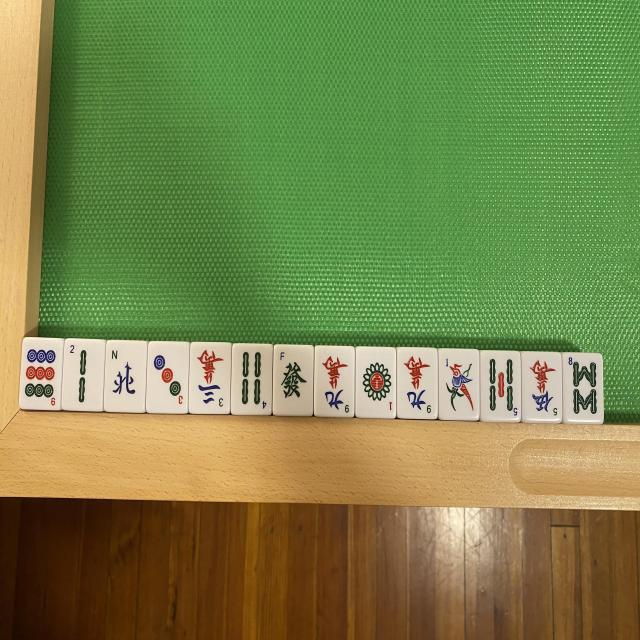hdg: (274, 346, 313, 414)
hwn: (108, 341, 146, 409)
sb1: (440, 352, 479, 420)
sb2: (65, 341, 102, 411)
sb4: (231, 346, 270, 416)
sb5: (484, 350, 522, 420)
sb8: (564, 352, 602, 420)
sc3: (192, 344, 232, 412)
sc5: (524, 357, 563, 425)
sc9: (398, 351, 438, 422), (316, 348, 354, 418)
sd1: (357, 350, 395, 418)
sd3: (150, 346, 188, 414)
sd9: (19, 339, 60, 409)
